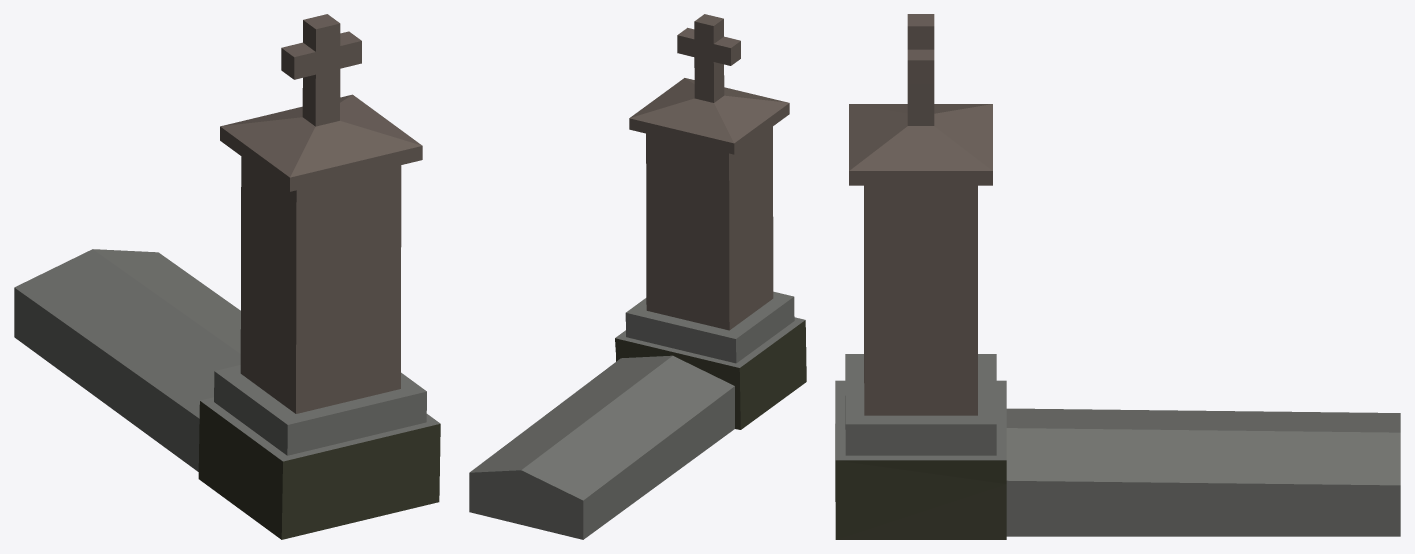
File: playerTomb.obj
3 renders of one model, left to right at view 1: azimuth 30°, elevation 25°; view 2: azimuth 150°, elevation 25°; view 3: azimuth 270°, elevation 25°, orthographic. The views are drawn at different scales.
Visible parts, largest first — view 1: tomb_Cube.001; view 2: tomb_Cube.001; view 3: tomb_Cube.001.
Part boxes in pixels (box(x1,y1,x2,y2)): tomb_Cube.001: box(14, 14, 440, 539); tomb_Cube.001: box(469, 14, 806, 539); tomb_Cube.001: box(835, 14, 1400, 539).
Size of the model in its own units: 26.28 by 73.92 by 78.6.
Materials: 1 (1 with a texture image).
